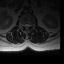CCS_normal: (25, 22, 28, 30)
LFS_normal: (30, 23, 32, 27)
LLS_normal: (28, 23, 30, 29)
RFS_normal: (22, 22, 24, 28)
RLS_normal: (24, 22, 26, 29)
